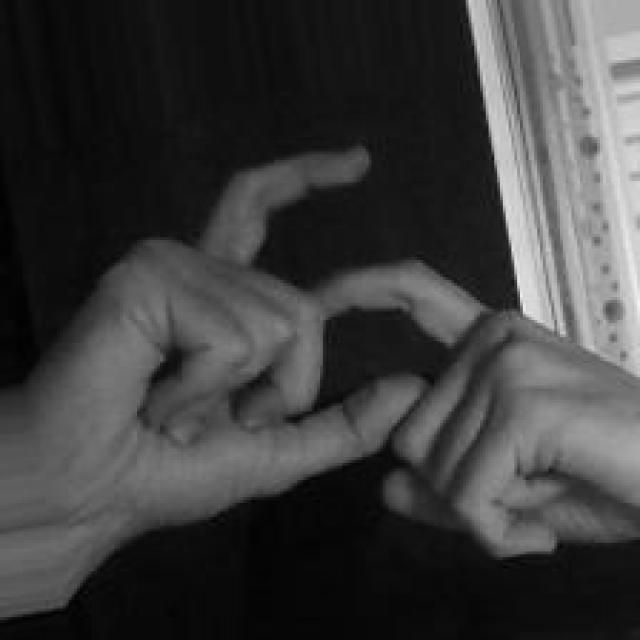G: (0, 145, 637, 640)
